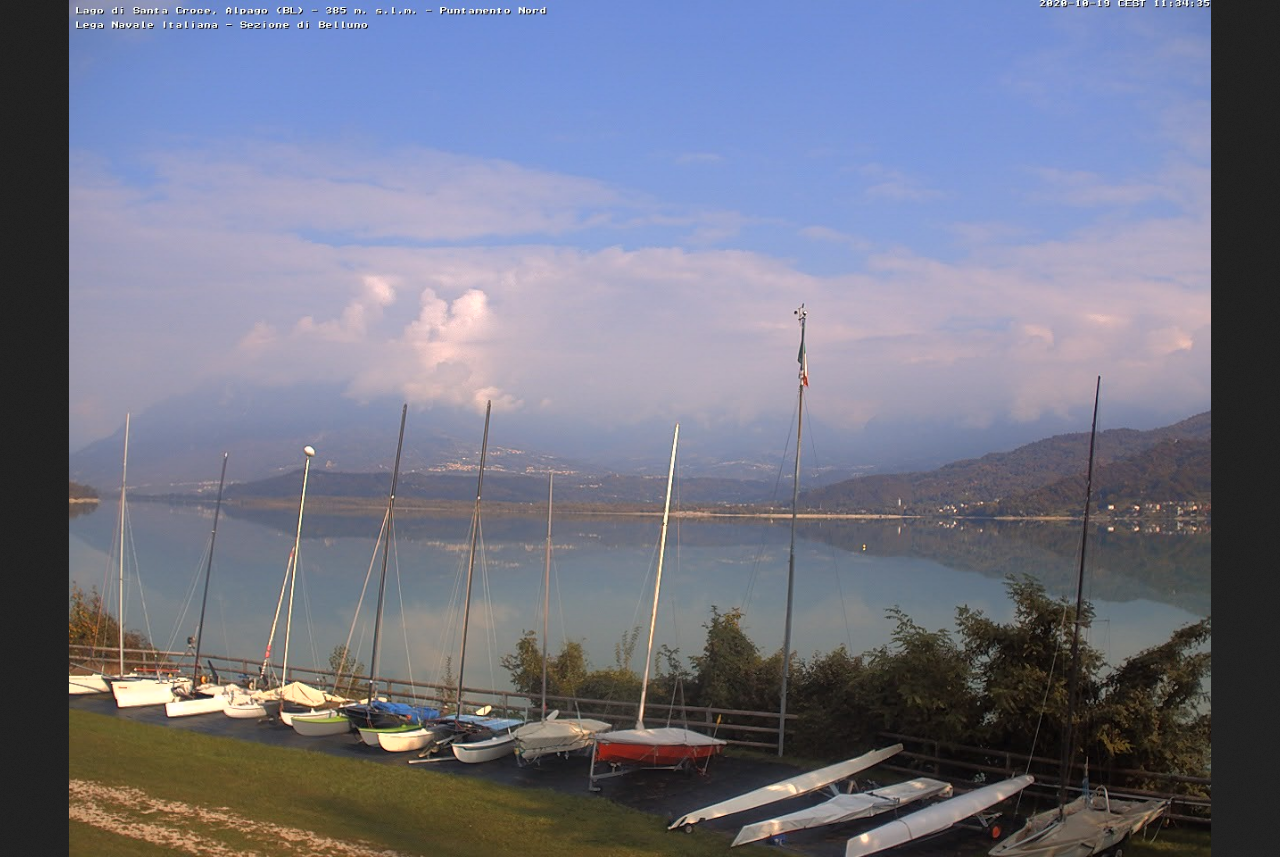no: (796, 334, 810, 389)
